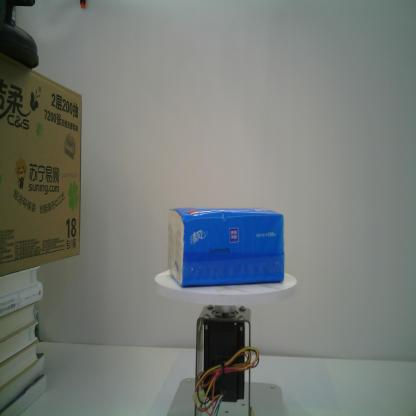Tissue: (168, 208, 286, 288)
